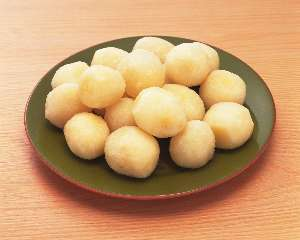boiled potatoes: (57, 39, 250, 171)
